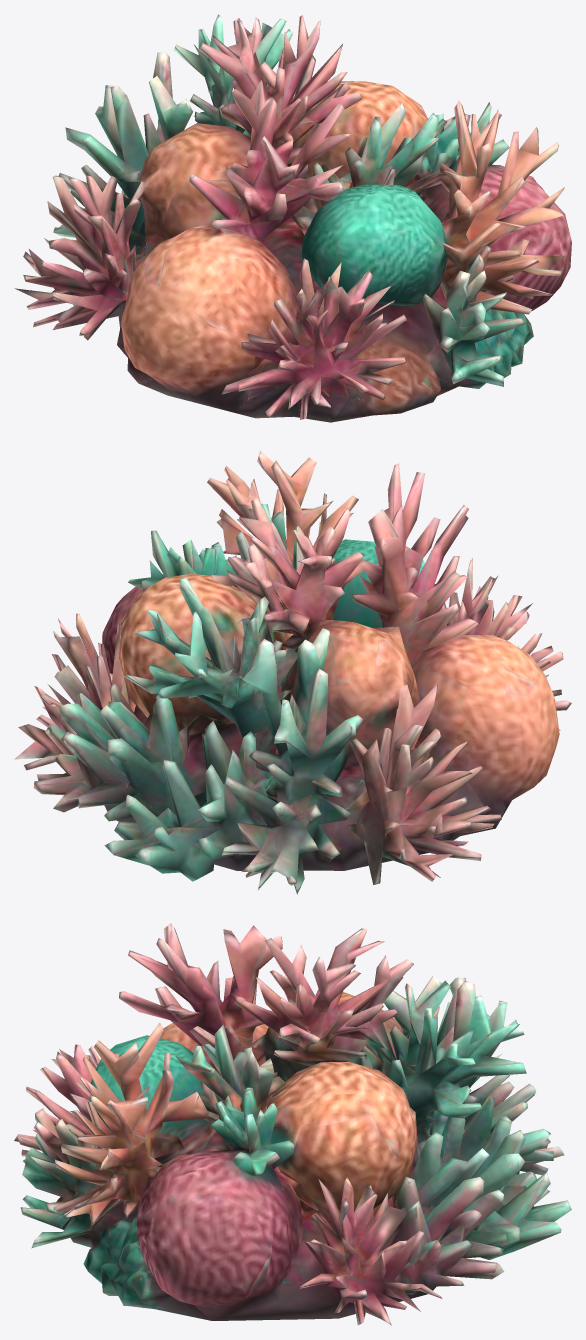
File: rescue-coral.glb
3 views of the same model, one above another, from view 1: azimuth 30°, elevation 25°; view 2: azimuth 150°, elevation 25°; view 3: azimuth 270°, elevation 25° (orthographic). The views are drawn at different scales.
Visible parts, largest first — view 1: Mesh_0; view 2: Mesh_0; view 3: Mesh_0.
Boxes of the visible parts, left/top/right/bottom form: Mesh_0: left=14, top=14, right=571, bottom=422; Mesh_0: left=14, top=451, right=571, bottom=894; Mesh_0: left=14, top=923, right=571, bottom=1325.
Bounding box in the file's own units: 1.76 × 1.12 × 1.88.
Materials: 1 (1 with a texture image).
